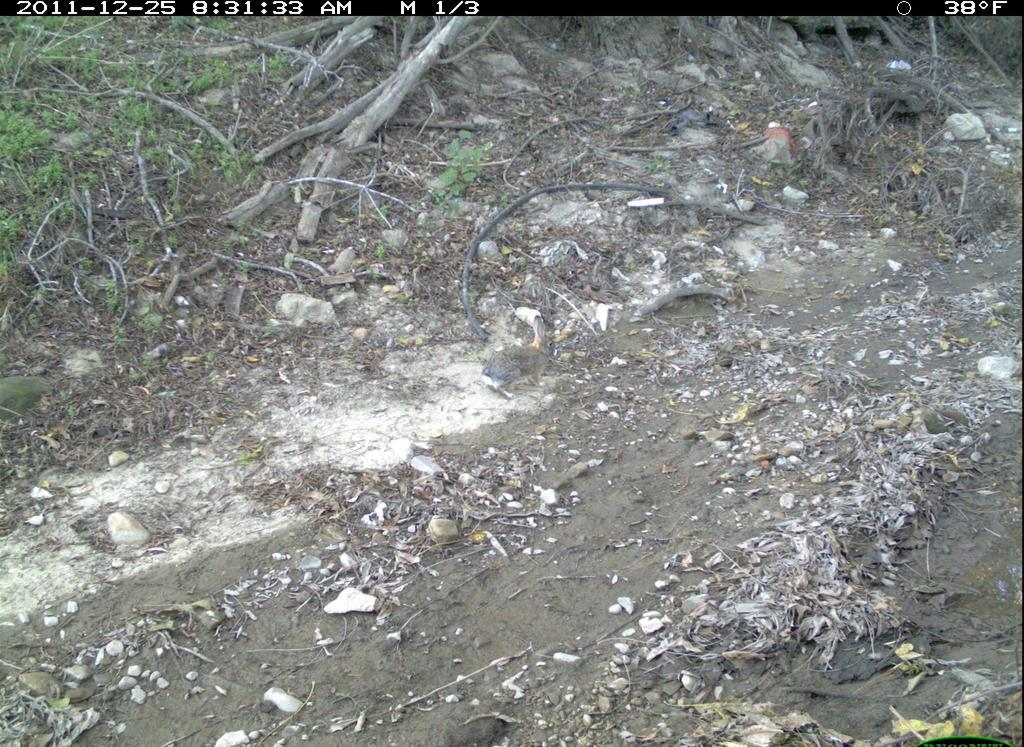rabbit: (472, 313, 567, 401)
